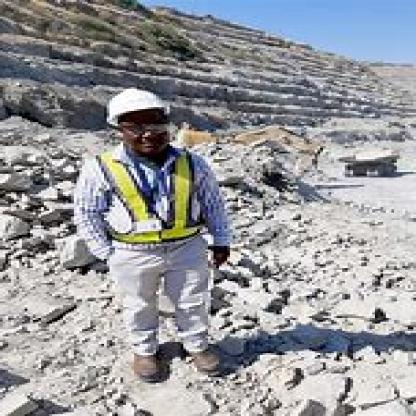person: (68, 76, 252, 383)
